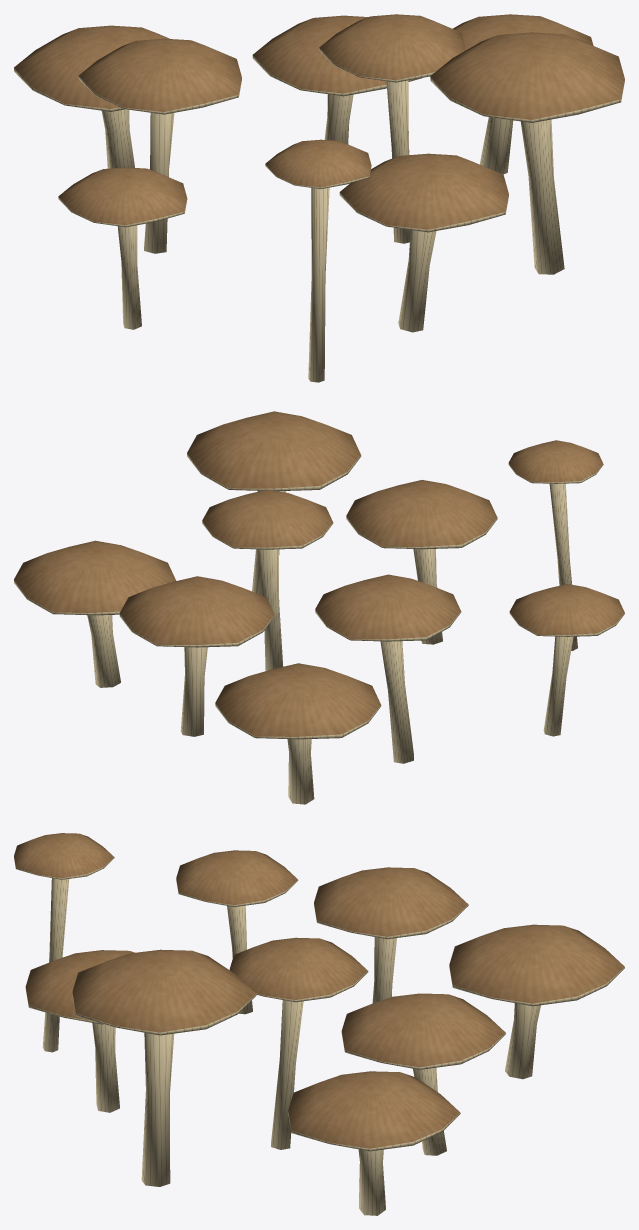
The model's file is Deadwood_Mushroom_Cluster_01_LOD2.fbx.
3 views of the same model, one above another, from view 1: azimuth 30°, elevation 25°; view 2: azimuth 150°, elevation 25°; view 3: azimuth 270°, elevation 25° (orthographic). The views are drawn at different scales.
Parts seen in each view (by area): view 1: Deadwood_Mushroom_Cluster_01_LOD2_Mesh; view 2: Deadwood_Mushroom_Cluster_01_LOD2_Mesh; view 3: Deadwood_Mushroom_Cluster_01_LOD2_Mesh.
Boxes of the visible parts, bbox=[...] form: Deadwood_Mushroom_Cluster_01_LOD2_Mesh: bbox=[14, 14, 624, 382]; Deadwood_Mushroom_Cluster_01_LOD2_Mesh: bbox=[14, 411, 624, 804]; Deadwood_Mushroom_Cluster_01_LOD2_Mesh: bbox=[14, 833, 624, 1215].
Size of the model in its own units: 30 by 11.07 by 28.38.
2 materials, 2 textured.
